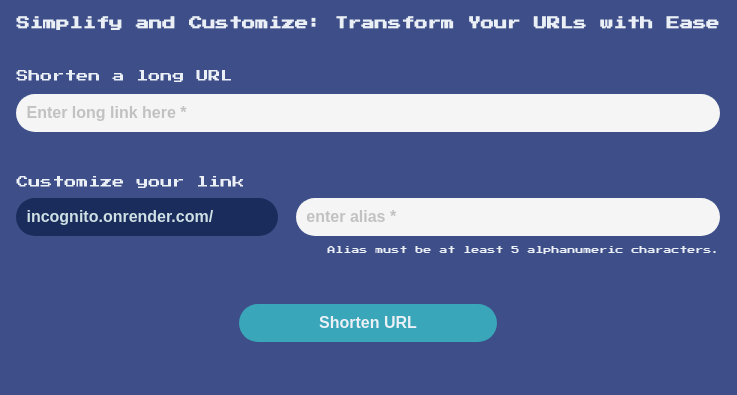
Test: Main Component › should render the main form and show error when alias is too short
In the field with placeholder "Enter long link here *": [368, 113] box x1=16 y1=94 x2=720 y2=132, type "https://www.google.com/"
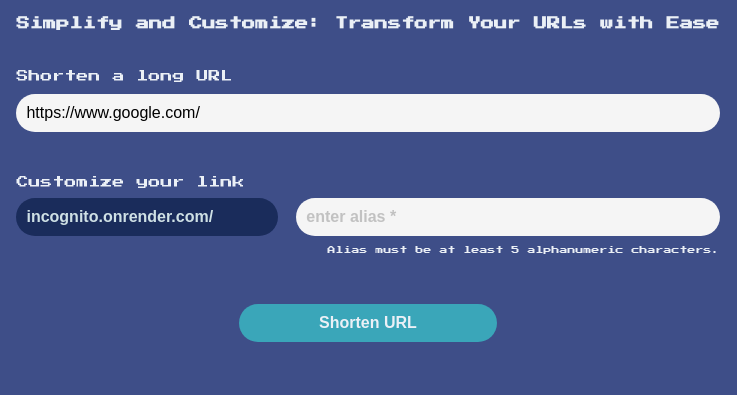
In the field with placeholder "Enter alias *": [508, 217] box x1=296 y1=198 x2=720 y2=236, type "test"
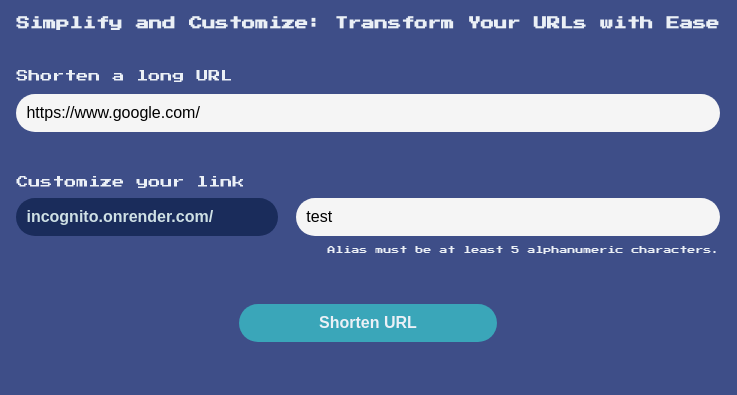
Click the button "Shorten URL": [368, 323] box x1=239 y1=304 x2=497 y2=342
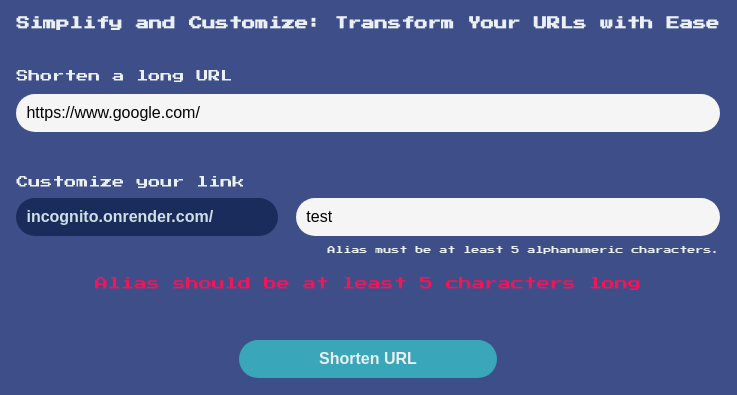
Result: the text with test id "err-message" reads "Alias should be at least 5 characters long" at x1=95 y1=277 x2=641 y2=290
